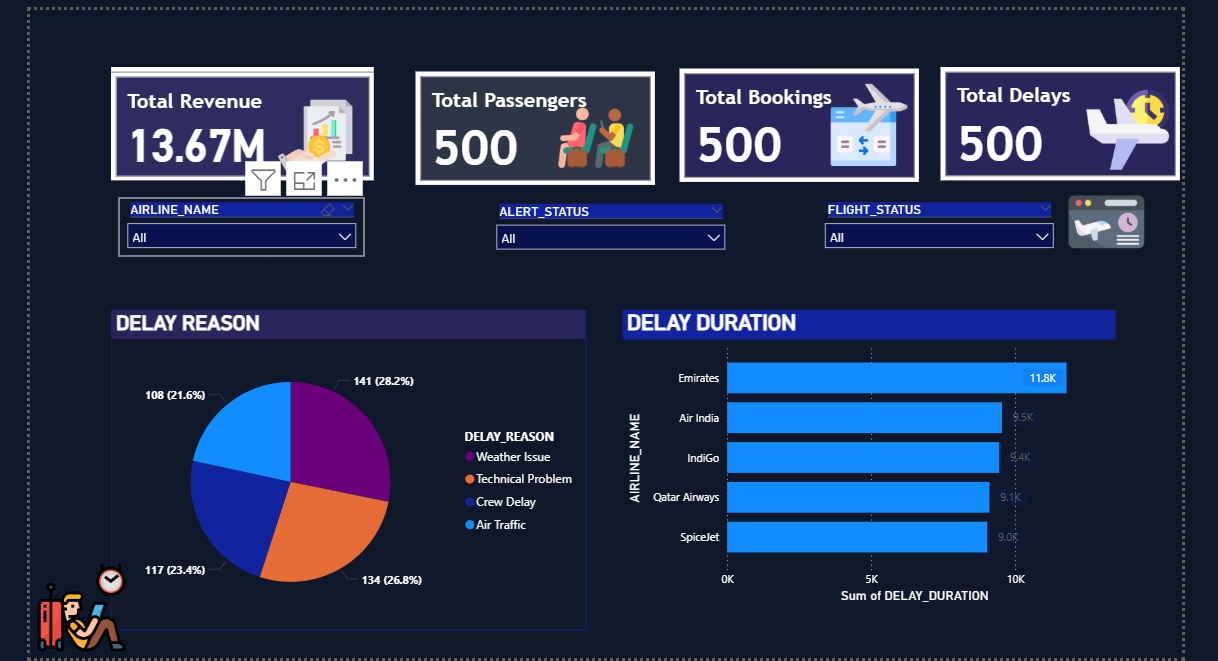

What the dashboard file says about the page in this screenshot:
{"tool":"powerbi","page":{"name":"Duplicate of Page 1","canvas":[1280,720],"ordinal":1},"visuals":[{"type":"cardVisual","fields":{"Data":["FACT_BOOKING.Total Revenue"]},"box":[90,64,292,126],"z":0},{"type":"cardVisual","fields":{"Data":["FACT_BOOKING.Total Passengers"]},"box":[428,68,266,126],"z":1000},{"type":"cardVisual","fields":{"Data":["FACT_BOOKING.Total Bookings"]},"box":[722,65.3,266,126],"z":2000},{"type":"image","box":[221.7,91.7,190,98.3],"z":3000},{"type":"image","box":[538.3,95.7,180,93.3],"z":4000},{"type":"image","box":[830,76.3,205,101.7],"z":5000},{"type":"pieChart","title":"DELAY REASON","fields":{"Category":["DELAY_ALERT.DELAY_REASON"],"Y":["CountNonNull(DELAY_ALERT.ALERT_ID)"]},"box":[90,334,528,356],"z":6000},{"type":"clusteredBarChart","title":"DELAY DURATION","fields":{"Category":["DIM_FLIGHT.AIRLINE_NAME"],"Y":["Sum(DELAY_ALERT.DELAY_DURATION)"]},"box":[658,334,548,330],"z":7000},{"type":"slicer","fields":{"Values":["DIM_FLIGHT.AIRLINE_NAME"]},"box":[98,208,274,66],"z":8000},{"type":"slicer","fields":{"Values":["DELAY_ALERT.ALERT_STATUS"]},"box":[508,210,274,66],"z":9000},{"type":"slicer","fields":{"Values":["DIM_FLIGHT.FLIGHT_STATUS"]},"box":[874,208,274,66],"z":10000},{"type":"cardVisual","fields":{"Data":["DELAY_ALERT.Total Delays"]},"box":[1012,64,266,126],"z":11000},{"type":"image","box":[0,606,114,114],"z":12000},{"type":"image","box":[1158,82,122,102],"z":13000},{"type":"image","box":[1146,184,98,104],"z":14000}]}

Visuals, with their boxes on the page's 1280x720 design canvas (x1, y1, x2, y2). These are canvas units, not pixel positions in the 1218x661 screenshot, which may show the page scaled, cropped or inside an application window:
cardVisual - FACT_BOOKING.Total Revenue: 90,64,382,190
cardVisual - FACT_BOOKING.Total Passengers: 428,68,694,194
cardVisual - FACT_BOOKING.Total Bookings: 722,65,988,191
image: 222,92,412,190
image: 538,96,718,189
image: 830,76,1035,178
"DELAY REASON" pieChart: 90,334,618,690
"DELAY DURATION" clusteredBarChart: 658,334,1206,664
slicer - DIM_FLIGHT.AIRLINE_NAME: 98,208,372,274
slicer - DELAY_ALERT.ALERT_STATUS: 508,210,782,276
slicer - DIM_FLIGHT.FLIGHT_STATUS: 874,208,1148,274
cardVisual - DELAY_ALERT.Total Delays: 1012,64,1278,190
image: 0,606,114,720
image: 1158,82,1280,184
image: 1146,184,1244,288
